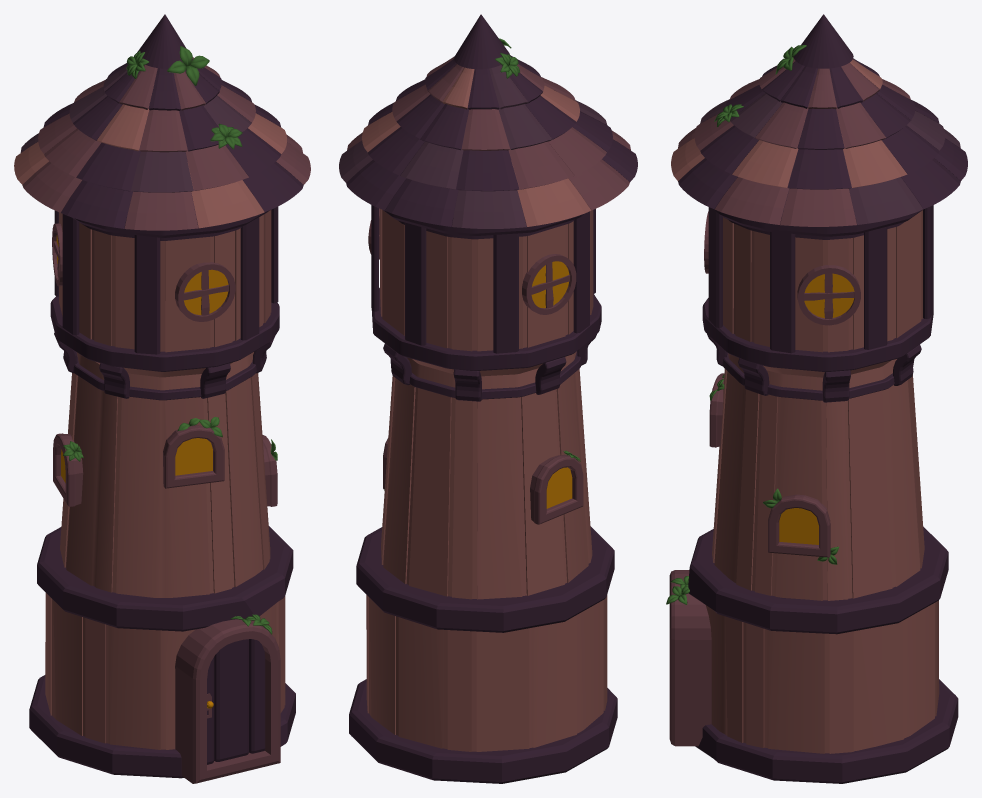
The model's file is torre-madeira.fbx.
3 renders of one model, left to right at view 1: azimuth 30°, elevation 25°; view 2: azimuth 150°, elevation 25°; view 3: azimuth 270°, elevation 25°, orthographic.
Parts seen in each view (by area): view 1: Sphere.001, Sphere.003; view 2: Sphere.001; view 3: Sphere.001.
Boxes of the visible parts, <box> form: Sphere.001: <box>14,14,310,783</box>; Sphere.003: <box>207,639,265,764</box>; Sphere.001: <box>339,14,637,783</box>; Sphere.001: <box>666,14,967,783</box>.
Bounding box in the file's own units: 492 × 1309 × 500.
